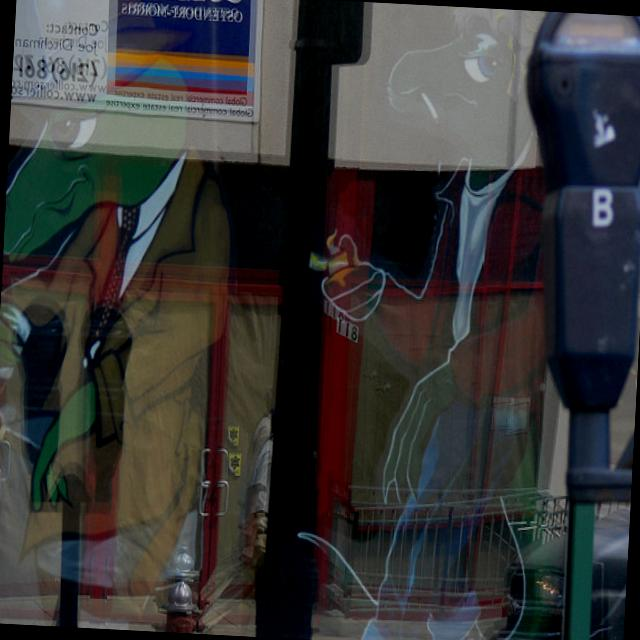Vehicle: (484, 501, 630, 640)
